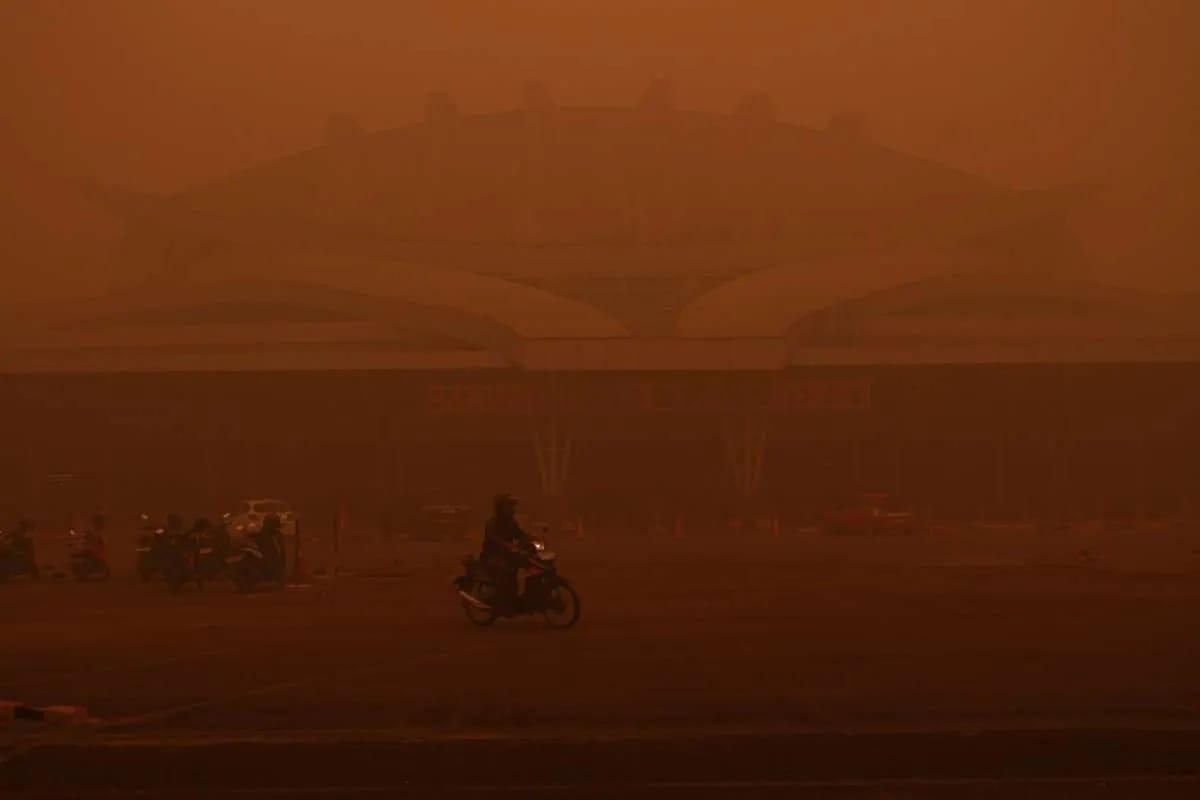Deteksi-Objek-Citra-Berasap: (0, 0, 1199, 799)
Gedung: (0, 83, 1199, 543)
Kendaraan: (452, 535, 581, 631), (136, 522, 216, 592), (212, 536, 289, 593), (221, 498, 296, 555), (67, 526, 111, 583)
Manusia: (478, 493, 545, 609), (160, 510, 190, 573), (258, 511, 286, 572)
